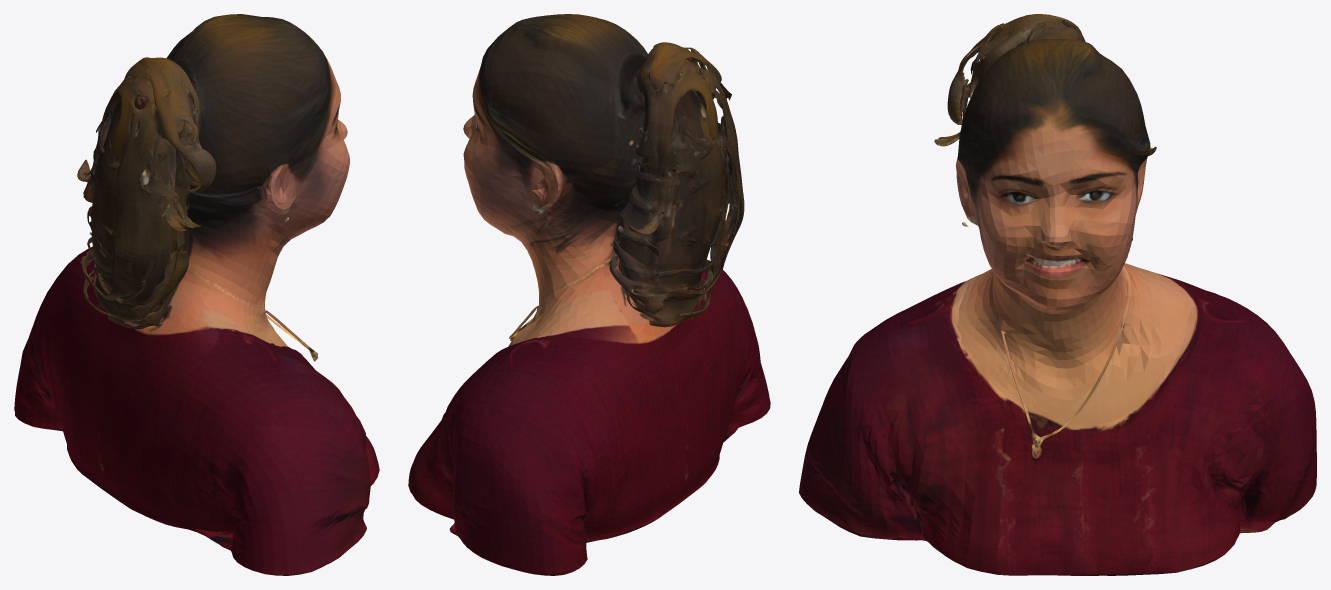
Rendered from AswathiTest.glb.
3 views of the same model, side by side, from view 1: azimuth 30°, elevation 25°; view 2: azimuth 150°, elevation 25°; view 3: azimuth 270°, elevation 25° (orthographic). The views are drawn at different scales.
Visible parts, largest first — view 1: tripo_node_503fb3a5-71e7-4389-bfaf-6ca298ad3d90; view 2: tripo_node_503fb3a5-71e7-4389-bfaf-6ca298ad3d90; view 3: tripo_node_503fb3a5-71e7-4389-bfaf-6ca298ad3d90.
Boxes of the visible parts, left/top/right/bottom form: tripo_node_503fb3a5-71e7-4389-bfaf-6ca298ad3d90: left=14, top=14, right=379, bottom=575; tripo_node_503fb3a5-71e7-4389-bfaf-6ca298ad3d90: left=408, top=14, right=770, bottom=575; tripo_node_503fb3a5-71e7-4389-bfaf-6ca298ad3d90: left=799, top=14, right=1316, bottom=575.
Bounding box in the file's own units: 0.6095 × 0.9998 × 0.9968.
Materials: 1 (1 with a texture image).
